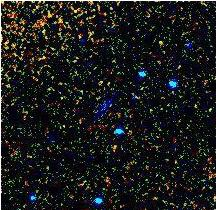star: (143, 25, 173, 55)
